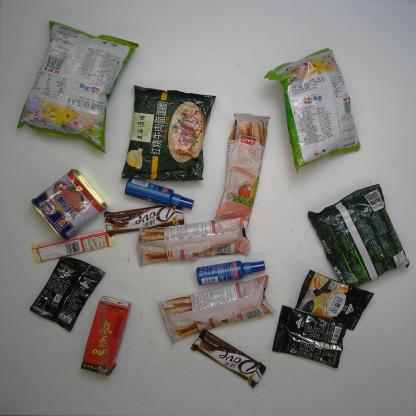Canned Food: (31, 167, 109, 242)
Chocolate: (188, 327, 268, 391), (30, 226, 117, 266), (102, 199, 188, 236)
Dessert: (158, 273, 278, 347), (213, 111, 271, 231), (134, 214, 252, 270)
Drink: (79, 293, 133, 376)
Instant Drink: (28, 254, 107, 333), (270, 303, 350, 370), (293, 268, 375, 332)
Instant Noodles: (307, 181, 411, 291), (114, 82, 219, 188)
Personal Hygiene: (121, 173, 196, 213), (196, 258, 268, 286)
Puffed Food: (15, 18, 142, 158), (264, 44, 362, 174)
